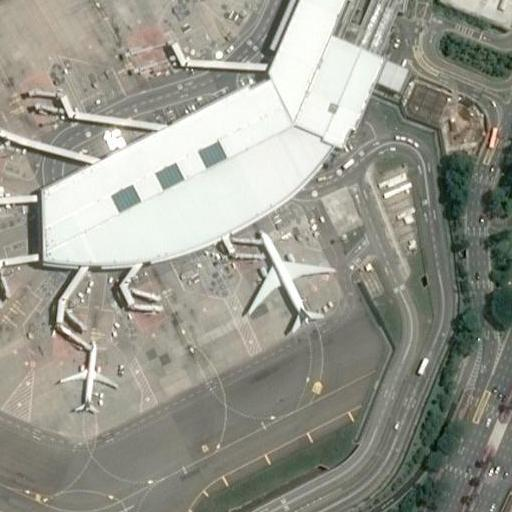Aircraft: (244, 227, 334, 335), (60, 339, 118, 415)
